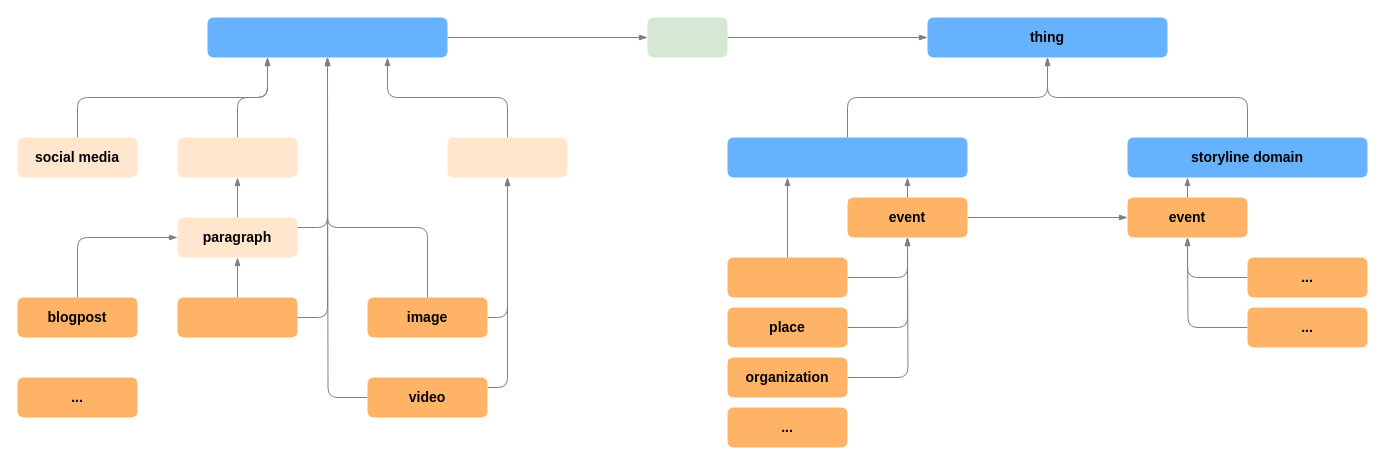
Some shapes in this 1384 by 464 pixel diagram are drawn without their labels. Each missing label, with the centre of its shape:
"about" goes at point 687,37.
"artefact domain" goes at point 327,37.
"core domain" goes at point 847,157.
"news article" goes at point 237,317.
"person" goes at point 787,277.
"sentence" goes at point 237,157.
"test annotation" goes at point 507,157.
